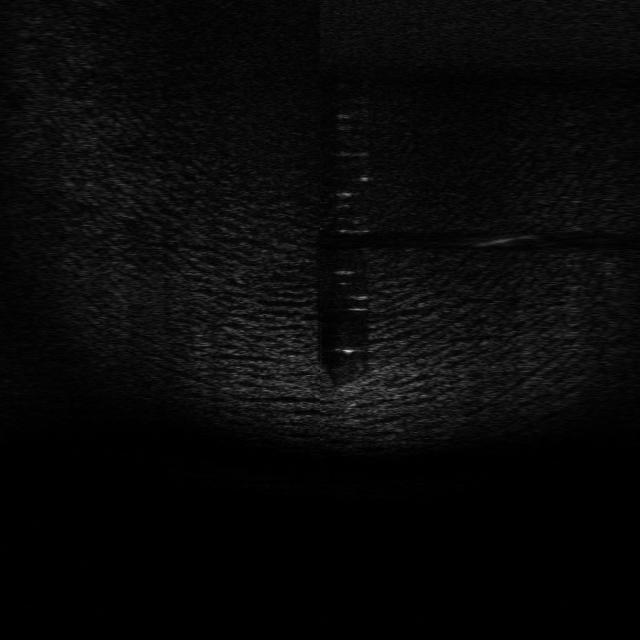cube: (324, 356, 372, 389)
